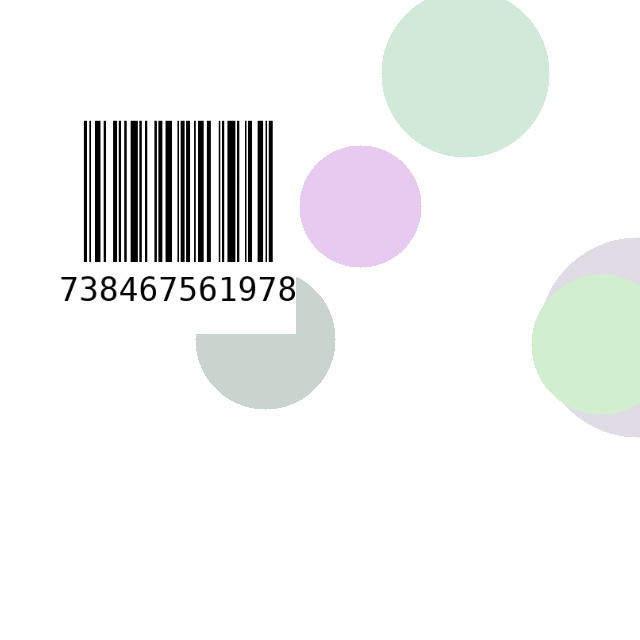barcode: (60, 112, 296, 334)
